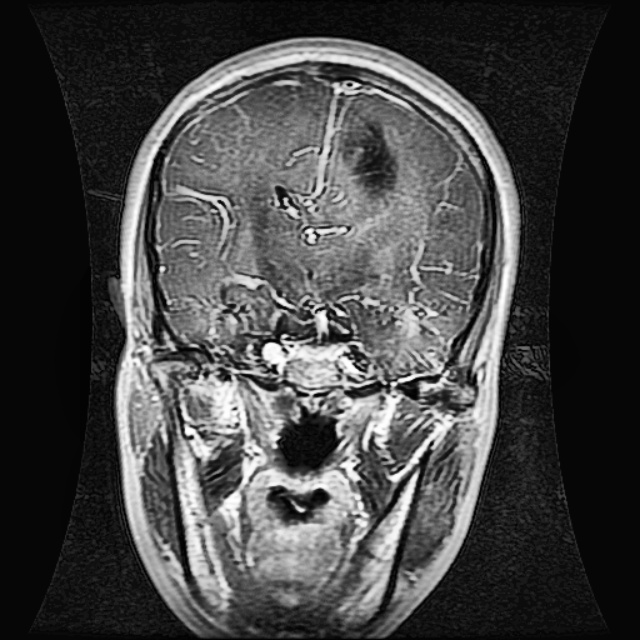Meningioma: (340, 117, 399, 198)
